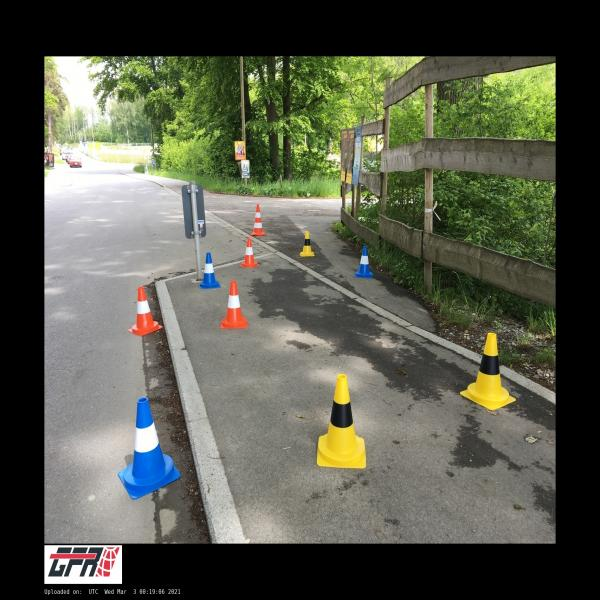blue_cone: (118, 397, 180, 500), (200, 252, 221, 288), (354, 245, 374, 278)
orange_cone: (127, 287, 162, 337), (220, 279, 248, 329), (250, 205, 267, 236), (240, 239, 258, 266)
yellow_cone: (315, 372, 367, 467), (460, 333, 516, 406), (301, 231, 315, 257)
